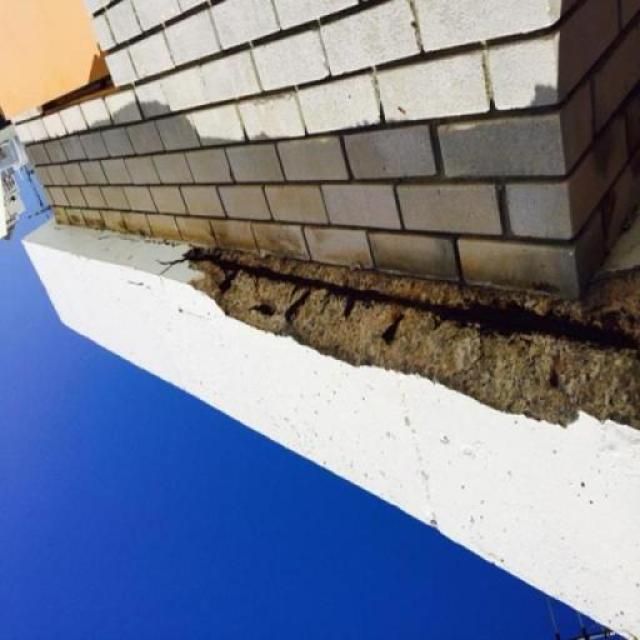D0w0: (184, 242, 639, 424)
